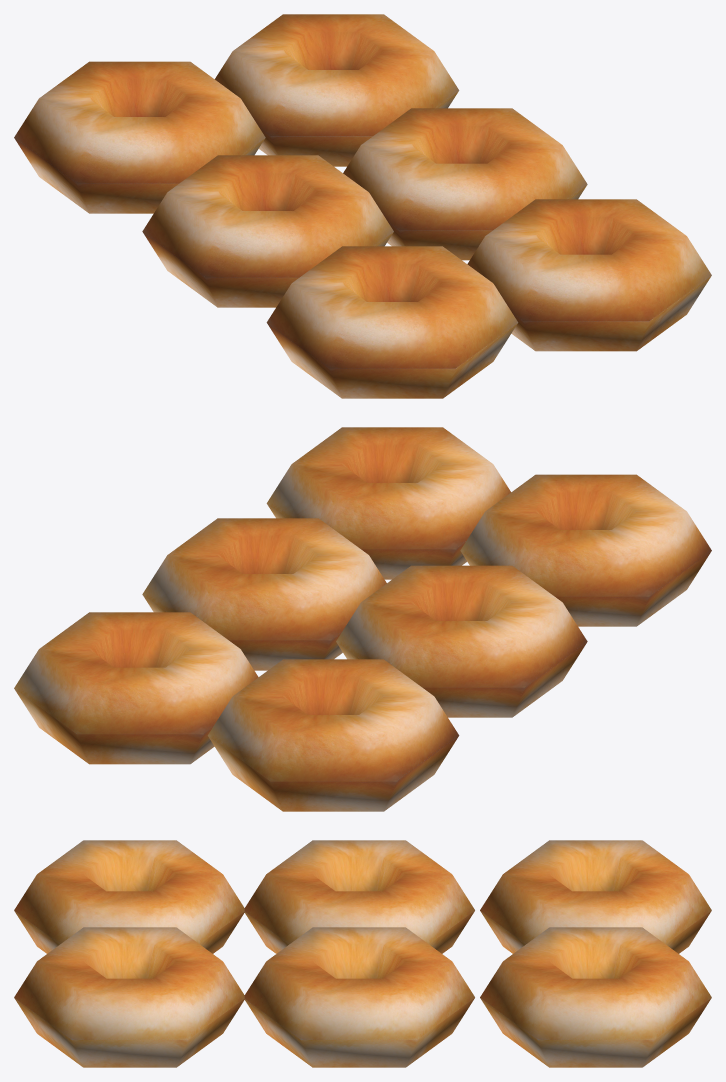
Rendered from donutplainpile.fbx.
3 renders of one model, top to bottom at view 1: azimuth 30°, elevation 25°; view 2: azimuth 150°, elevation 25°; view 3: azimuth 270°, elevation 25°, orthographic. The views are drawn at different scales.
Visible parts, largest first — view 1: DonutSingle.001; view 2: DonutSingle.001; view 3: DonutSingle.001.
Part boxes in pixels (box(x1,y1,x2,y2)): DonutSingle.001: box(14, 14, 711, 398); DonutSingle.001: box(14, 427, 711, 811); DonutSingle.001: box(14, 840, 711, 1067).
Bounding box in the file's own units: 94.19 × 18.45 × 161.
